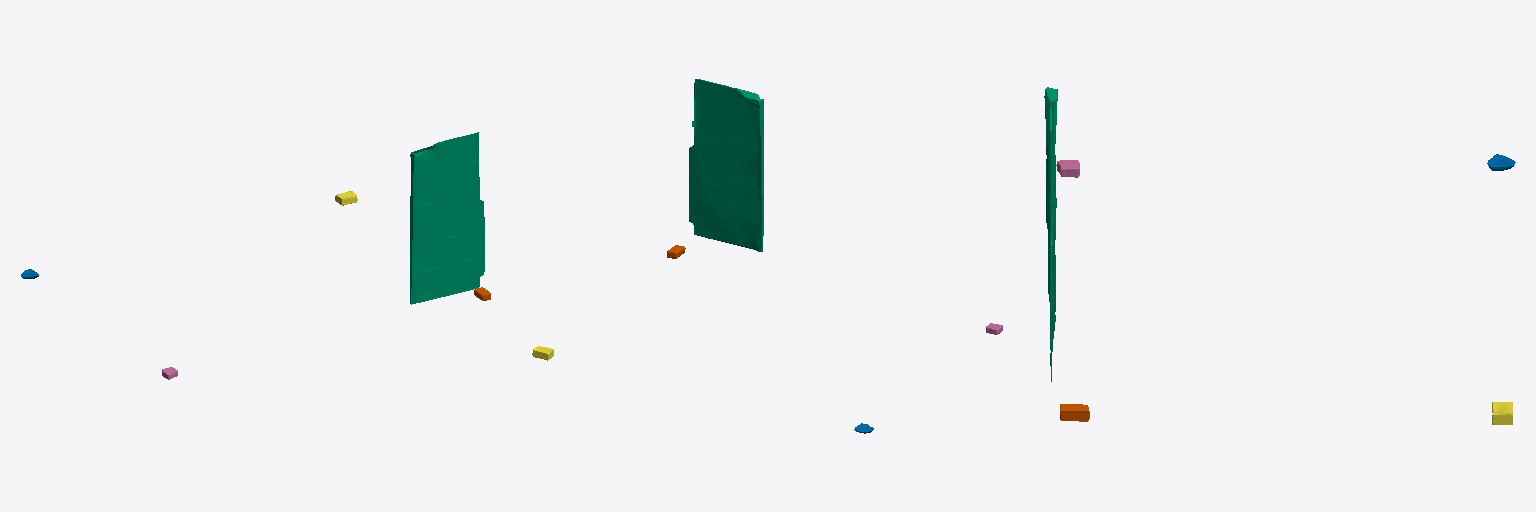
robot.urdf — scene:
<?xml version='1.0' encoding='utf-8'?>
<robot name="scene">
  <link name="l_world">
    <inertial>
      <origin xyz="0 0 0" rpy="0 0 0" />
      <mass value="1.0" />
      <inertia ixx="1.0" ixy="0.0" ixz="0.0" iyy="1.0" iyz="0.0" izz="1.0" />
    </inertial>
  </link>
  <link name="l_0">
    <inertial>
      <origin xyz="0 0 0" rpy="0 0 0" />
      <mass value="1.0" />
      <inertia ixx="1.0" ixy="0.0" ixz="0.0" iyy="1.0" iyz="0.0" izz="1.0" />
    </inertial>
    <visual>
      <geometry>
        <mesh filename="./objs/0/0.obj" scale="1 1 1" />
      </geometry>
      <origin xyz="0 0 0" rpy="0 0 0" />
    </visual>
  </link>
  <link name="l_2">
    <inertial>
      <origin xyz="0 0 0" rpy="0 0 0" />
      <mass value="1.0" />
      <inertia ixx="1.0" ixy="0.0" ixz="0.0" iyy="1.0" iyz="0.0" izz="1.0" />
    </inertial>
    <visual>
      <geometry>
        <mesh filename="./objs/2/2.obj" scale="1 1 1" />
      </geometry>
      <origin xyz="0 0 0" rpy="0 0 0" />
    </visual>
  </link>
  <link name="l_3">
    <inertial>
      <origin xyz="0 0 0" rpy="0 0 0" />
      <mass value="1.0" />
      <inertia ixx="1.0" ixy="0.0" ixz="0.0" iyy="1.0" iyz="0.0" izz="1.0" />
    </inertial>
    <visual>
      <geometry>
        <mesh filename="./objs/3/3.obj" scale="1 1 1" />
      </geometry>
      <origin xyz="0 0 0" rpy="0 0 0" />
    </visual>
  </link>
  <link name="l_4">
    <inertial>
      <origin xyz="0 0 0" rpy="0 0 0" />
      <mass value="1.0" />
      <inertia ixx="1.0" ixy="0.0" ixz="0.0" iyy="1.0" iyz="0.0" izz="1.0" />
    </inertial>
    <visual>
      <geometry>
        <mesh filename="./objs/4/4.obj" scale="1 1 1" />
      </geometry>
      <origin xyz="0 0 0" rpy="0 0 0" />
    </visual>
  </link>
  <link name="l_5">
    <inertial>
      <origin xyz="0 0 0" rpy="0 0 0" />
      <mass value="1.0" />
      <inertia ixx="1.0" ixy="0.0" ixz="0.0" iyy="1.0" iyz="0.0" izz="1.0" />
    </inertial>
    <visual>
      <geometry>
        <mesh filename="./objs/5/5.obj" scale="1 1 1" />
      </geometry>
      <origin xyz="0 0 0" rpy="0 0 0" />
    </visual>
  </link>
  <link name="l_6">
    <inertial>
      <origin xyz="0 0 0" rpy="0 0 0" />
      <mass value="1.0" />
      <inertia ixx="1.0" ixy="0.0" ixz="0.0" iyy="1.0" iyz="0.0" izz="1.0" />
    </inertial>
    <visual>
      <geometry>
        <mesh filename="./objs/6/6.obj" scale="1 1 1" />
      </geometry>
      <origin xyz="0 0 0" rpy="0 0 0" />
    </visual>
  </link>
  <joint name="joint_fixed_0_2" type="fixed">
    <parent link="l_0" />
    <child link="l_2" />
    <origin xyz="0 0 0" rpy="0 0 0" />
  </joint>
  <joint name="joint_fixed_2_3" type="fixed">
    <parent link="l_2" />
    <child link="l_3" />
    <origin xyz="0 0 0" rpy="0 0 0" />
  </joint>
  <joint name="joint_fixed_3_4" type="fixed">
    <parent link="l_3" />
    <child link="l_4" />
    <origin xyz="0 0 0" rpy="0 0 0" />
  </joint>
  <joint name="joint_fixed_4_5" type="fixed">
    <parent link="l_4" />
    <child link="l_5" />
    <origin xyz="0 0 0" rpy="0 0 0" />
  </joint>
  <joint name="joint_fixed_5_6" type="fixed">
    <parent link="l_5" />
    <child link="l_6" />
    <origin xyz="0 0 0" rpy="0 0 0" />
  </joint>
  <joint name="joint_fixed_world0" type="fixed">
    <parent link="l_world" />
    <child link="l_0" />
    <origin xyz="0 0 0" rpy="0 0 0" />
  </joint>
  <link name="l_1">
    <inertial>
      <origin xyz="0 0 0" rpy="0 0 0" />
      <mass value="1.0" />
      <inertia ixx="1.0" ixy="0.0" ixz="0.0" iyy="1.0" iyz="0.0" izz="1.0" />
    </inertial>
    <visual>
      <geometry>
        <mesh filename="./objs/1/1.obj" scale="1 1 1" />
      </geometry>
      <origin xyz="0 0 0" rpy="0 0 0" />
    </visual>
  </link>
  <link name="abstract_0_1">
    <inertial>
      <origin xyz="0 0 0" rpy="0 0 0" />
      <mass value="1.0" />
      <inertia ixx="1.0" ixy="0.0" ixz="0.0" iyy="1.0" iyz="0.0" izz="1.0" />
    </inertial>
  </link>
  <joint name="joint_fixed_abstract_0_1" type="fixed">
    <parent link="abstract_0_1" />
    <child link="l_1" />
    <origin xyz="0.48484375 0.3159375 0.5" rpy="0 0 0" />
  </joint>
  <joint name="joint_revolute_l_0_abstract_0_1" type="revolute">
    <parent link="l_0" />
    <child link="abstract_0_1" />
    <origin xyz="-0.48484375 -0.3159375 -0.5" rpy="0 0 0" />
    <axis xyz="0.0 0.0 1.0" />
    <limit lower="-3.141592653589793" upper="0.0" effort="2000.0" velocity="2.0" />
  </joint>
</robot>

--- Facts derived from the render (not from the file) ---
3 views of the same robot in one strip: view 1: azimuth 30°, elevation 25°; view 2: azimuth 150°, elevation 25°; view 3: azimuth 270°, elevation 25° (orthographic).
Robot: scene — 9 links, 8 joints (1 revolute, 7 fixed); root link l_world; default pose: all joints at 0.
Visible links, largest first — view 1: l_2; view 2: l_2; view 3: l_2.
Link boxes in pixels (x1,y1,x2,y2): l_2: [410, 132, 484, 304]; l_2: [689, 79, 763, 251]; l_2: [1044, 87, 1057, 381].
Size in the robot's own frame: 0.9829 by 0.7504 by 0.4926 metres.
Meshes: 7 distinct files referenced, 5 mesh visuals loaded (5 OBJ); not drawn: 2 (reference not matched to a file when rendering).
